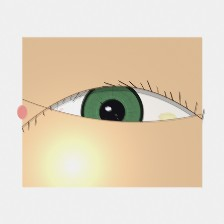pinguecula_lesion: (149, 104, 186, 134)
